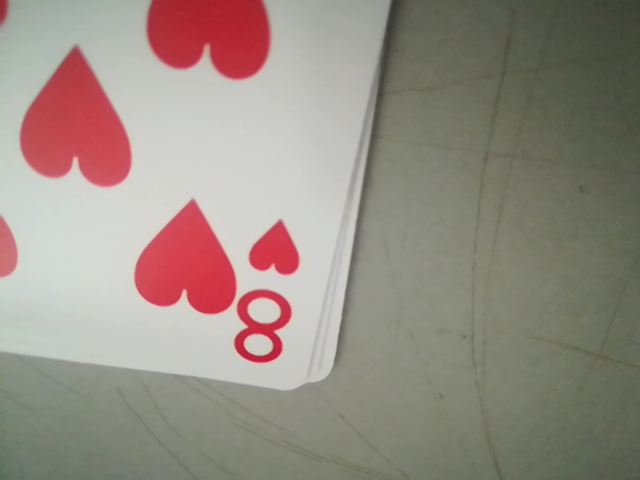hx 8: (228, 210, 315, 372)
